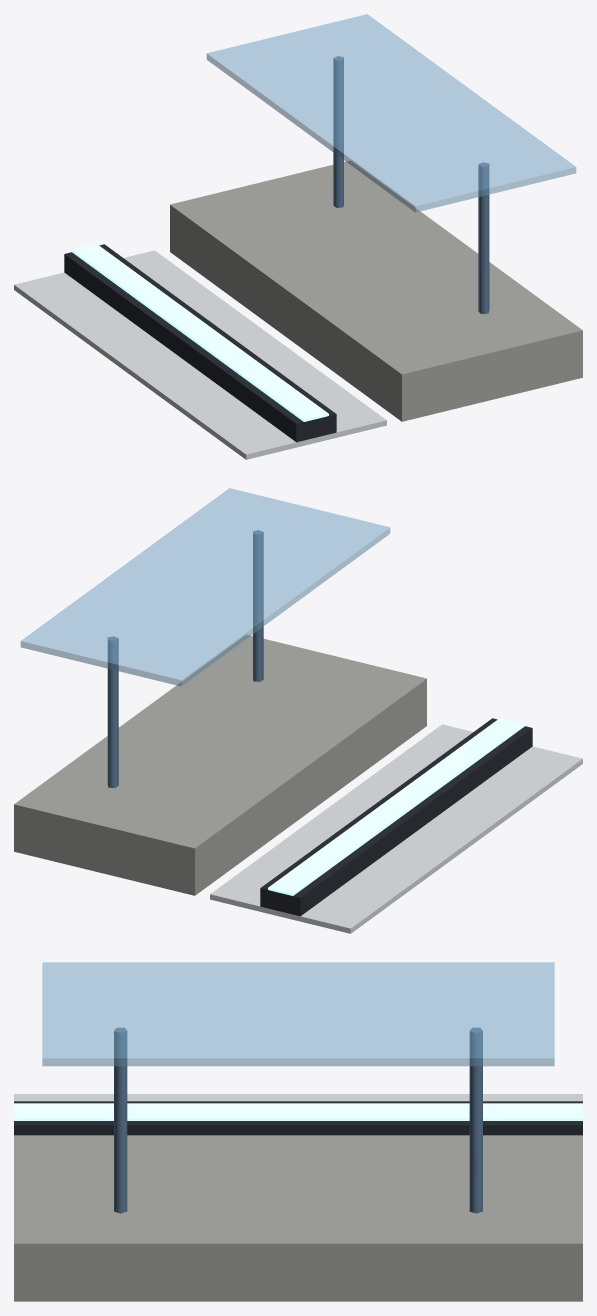
File: road_rail_x_platform.glb
3 views of the same model, one above another, from view 1: azimuth 30°, elevation 25°; view 2: azimuth 150°, elevation 25°; view 3: azimuth 270°, elevation 25° (orthographic). The views are drawn at different scales.
Visible parts, largest first — view 1: body; view 2: body; view 3: body.
Boxes of the visible parts, x1,y1,x2,y2 form: body: (14,14,582,459); body: (14,488,582,933); body: (14,962,582,1301).
Size of what is drawn, in the model's own units: 6.8 by 3.82 by 8.
